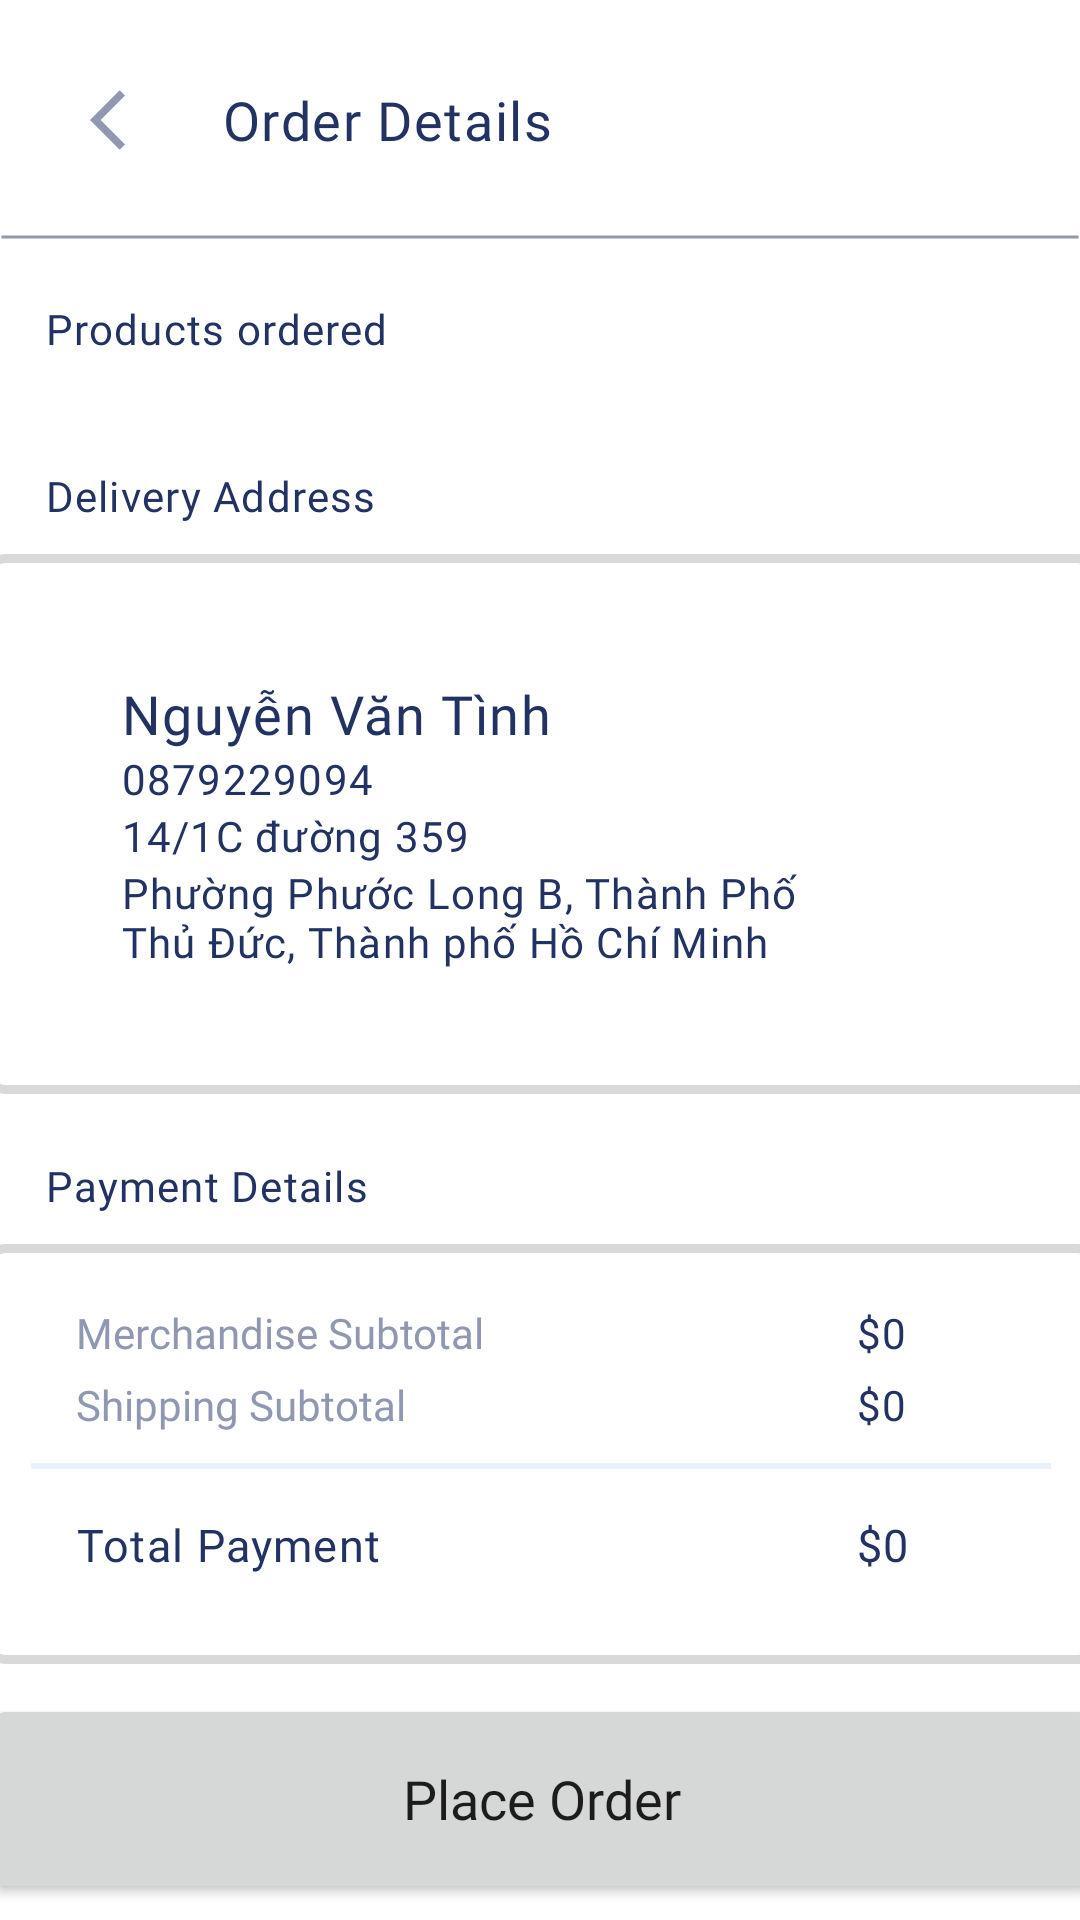

Screen size 1080w x 1920h. Icon name, then its center in pixels as point (x, y):
back: point (107, 120)
